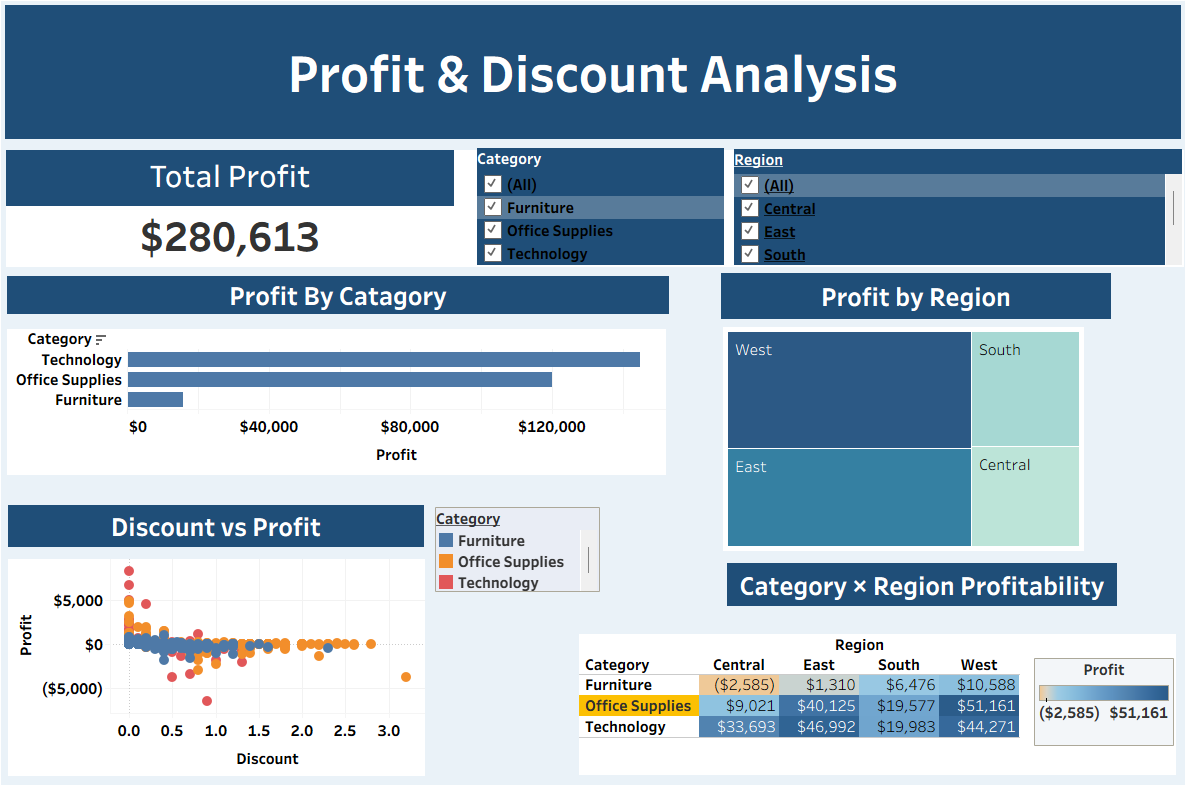

The dashboard page shown, as its layout file describes it:
{"tool":"tableau","page":{"name":"Dashboard 2","canvas":[1200,800],"ordinal":1},"visuals":[{"type":"title","box":[8,8,1184,142]},{"type":"filter","title":"Category × Region Profitability","param":"[federated.1i7p8ud0yrlsvh18nw4hg09q55qu].[none:Category:nk]","box":[484,155,247,117]},{"type":"filter","title":"Profit by Region","param":"[federated.1i7p8ud0yrlsvh18nw4hg09q55qu].[none:Region:nk]","box":[741,156,448,116]},{"type":"worksheet","title":"KPI - Total Profit","mark":"Automatic","box":[13,157,448,115]},{"type":"text","box":[728,280,390,46]},{"type":"text","box":[14,283,662,38]},{"type":"worksheet","title":"Profit by Region","mark":"Automatic","box":[730,334,391,224]},{"type":"worksheet","title":"Profit by Category","mark":"Bar","rows":["Category"],"cols":["Profit"],"box":[14,336,659,146]},{"type":"text","box":[15,512,416,42]},{"type":"legend","title":"Discount vs Profit","param":"[federated.1i7p8ud0yrlsvh18nw4hg09q55qu].[none:Category:nk]","box":[442,514,165,85]},{"type":"worksheet","title":"Discount vs Profit","mark":"Circle","rows":["Profit"],"cols":["Discount"],"box":[15,566,417,217]},{"type":"text","box":[734,570,390,43]},{"type":"worksheet","title":"Category × Region Profitability","mark":"Square","rows":["Category"],"cols":["Region"],"box":[586,641,597,141]},{"type":"legend","title":"Category × Region Profitability","param":"[federated.1i7p8ud0yrlsvh18nw4hg09q55qu].[sum:Profit:qk]","box":[1041,665,140,88]}]}

Visuals, with their boxes in screenshot pixels (x1, y1, x2, y2), scaled from the page's 1200x800 canvas onto the 1188x787 screenshot:
title: 8:8:1180:148
"Category × Region Profitability" filter: 479:152:724:268
"Profit by Region" filter: 734:153:1177:268
"KPI - Total Profit" worksheet: 13:154:456:268
text: 721:275:1107:321
text: 14:278:669:316
"Profit by Region" worksheet: 723:329:1110:549
"Profit by Category" worksheet (Bar marks): 14:331:666:474
text: 15:504:427:545
"Discount vs Profit" legend: 438:506:601:589
"Discount vs Profit" worksheet (Circle marks): 15:557:428:770
text: 727:561:1113:603
"Category × Region Profitability" worksheet (Square marks): 580:631:1171:769
"Category × Region Profitability" legend: 1031:654:1169:741
